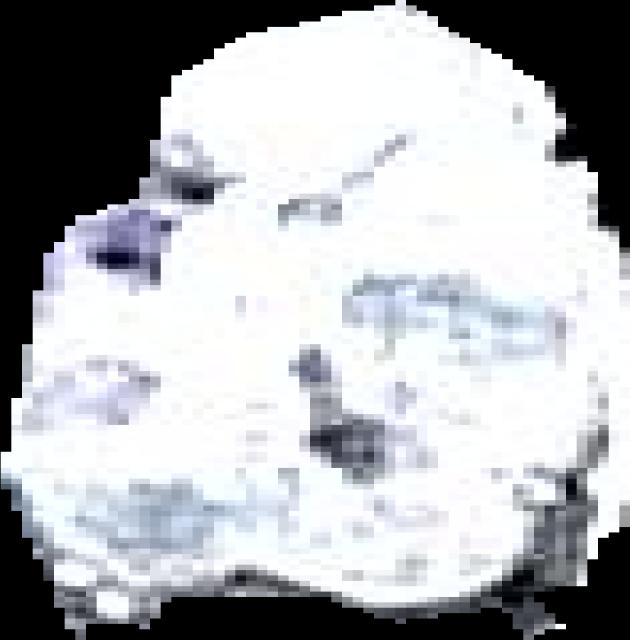tumor_moderate_chance: (1, 0, 630, 640)
